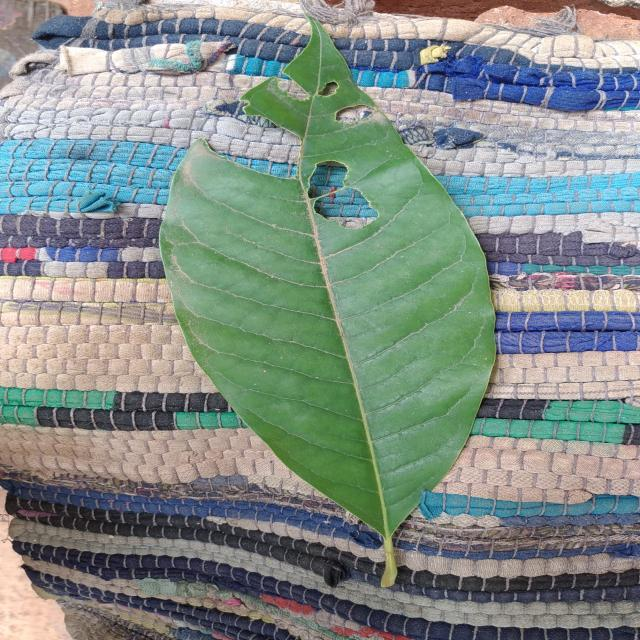coffee: (160, 20, 493, 586)
